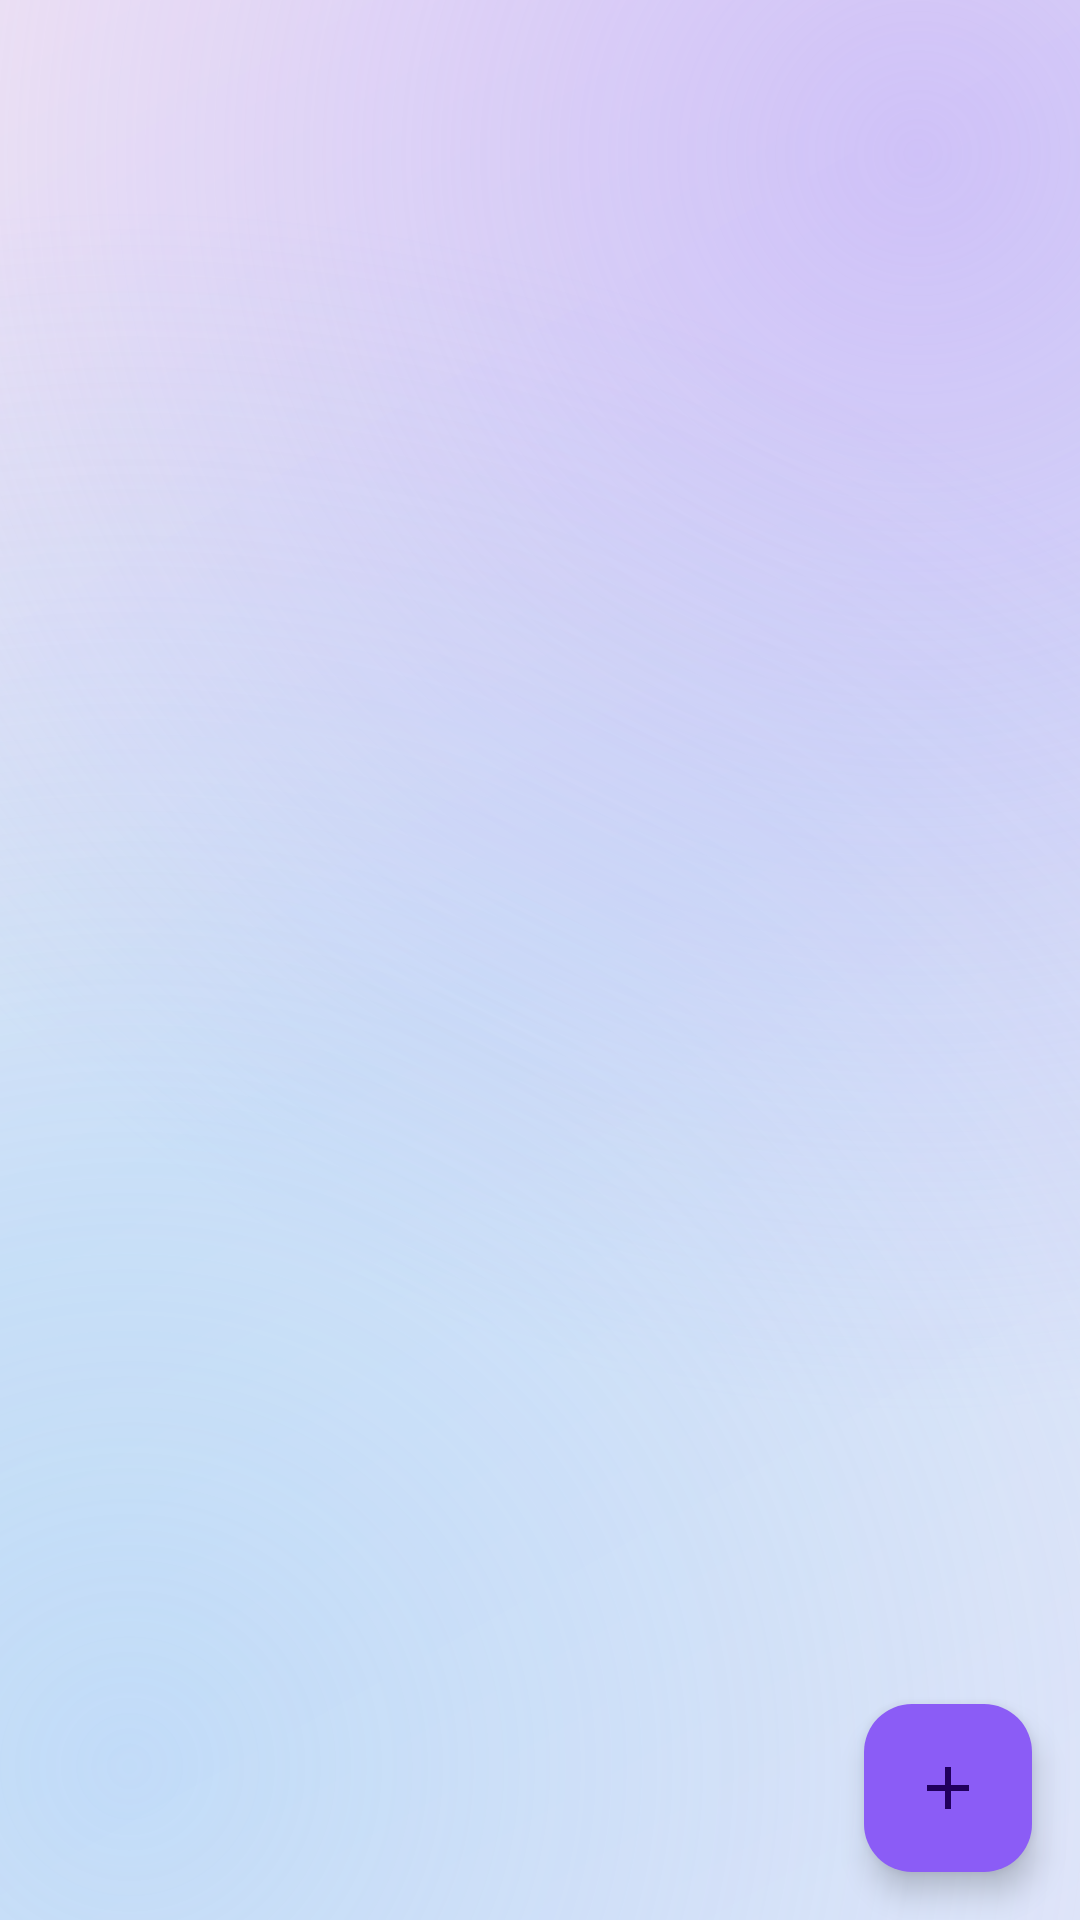

Icon click points for this 1080 × 1920 phone screenshot, format (x,y):
Catatan privat baru: (948,1788)
